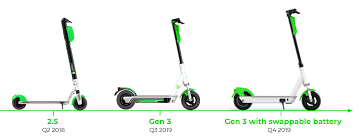kick_board: (232, 7, 322, 109), (117, 16, 199, 110), (10, 17, 87, 110)
kick_body: (253, 95, 294, 103), (135, 96, 175, 102), (26, 100, 69, 105)
kick_handler: (171, 16, 184, 24), (286, 7, 299, 15), (61, 17, 72, 23)
kick_neck: (288, 19, 309, 85), (63, 29, 80, 90), (173, 28, 188, 84)
kick_wheel: (114, 87, 136, 109), (233, 86, 252, 110), (180, 89, 200, 110), (302, 89, 321, 111), (72, 95, 88, 110), (11, 93, 25, 109)
